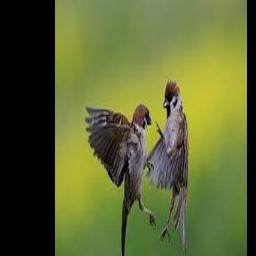Sparrow: (84, 104, 157, 256), (145, 78, 188, 256)
